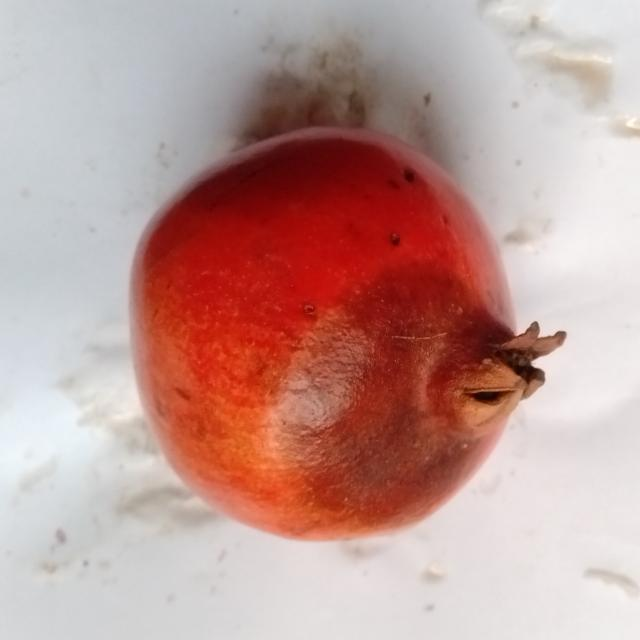Rotten: (121, 120, 566, 542)
